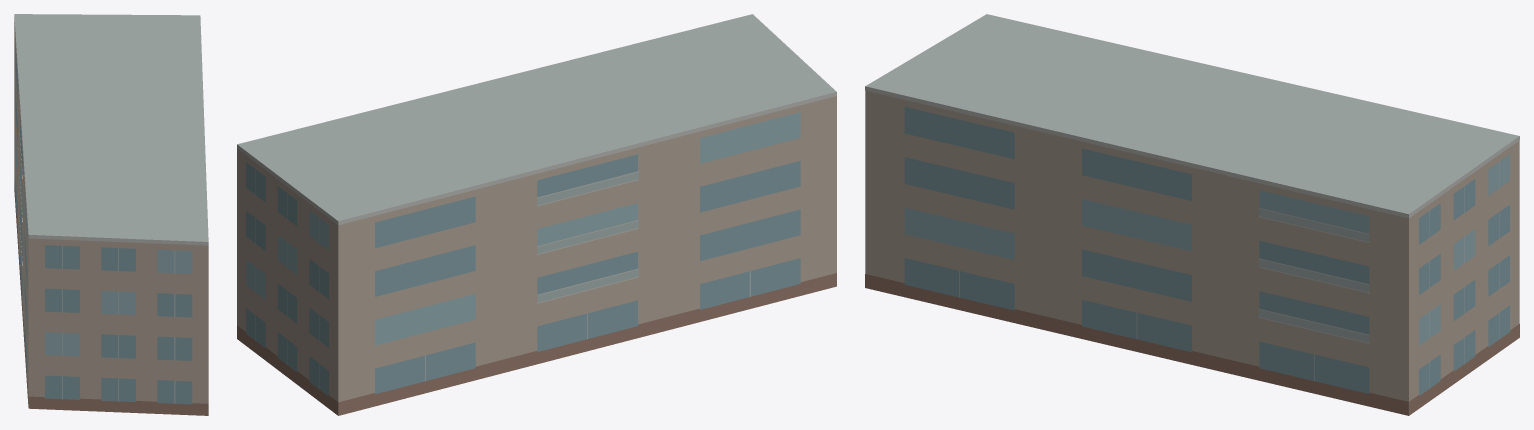
File: survey-upis-32478462.glb
3 renders of one model, left to right at view 1: azimuth 30°, elevation 25°; view 2: azimuth 150°, elevation 25°; view 3: azimuth 270°, elevation 25°, orthographic. The views are drawn at different scales.
Visible parts, largest first — view 1: survey-upis-32478462.tmp; view 2: survey-upis-32478462.tmp; view 3: survey-upis-32478462.tmp.
Part boxes in pixels (x1=…): survey-upis-32478462.tmp: x1=14, y1=14, x2=208, y2=415; survey-upis-32478462.tmp: x1=237, y1=14, x2=836, y2=415; survey-upis-32478462.tmp: x1=865, y1=14, x2=1519, y2=415.
Bounding box in the file's own units: 24.71 × 11.6 × 34.14.
